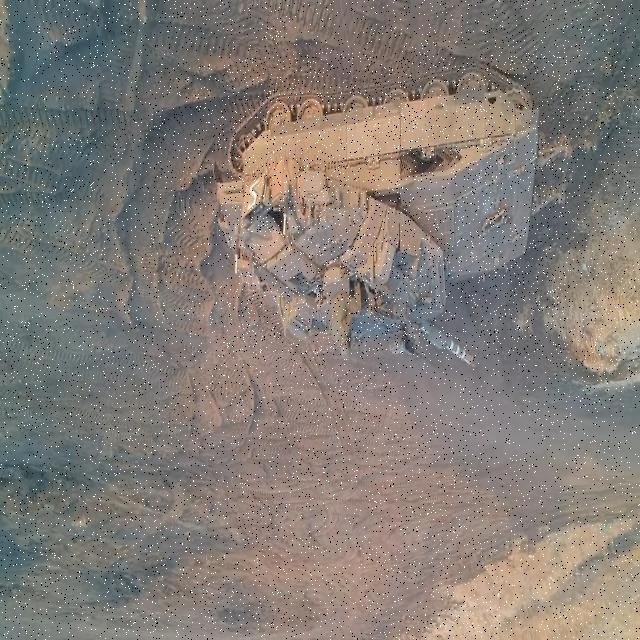MIL_MBT: (221, 53, 570, 355)
